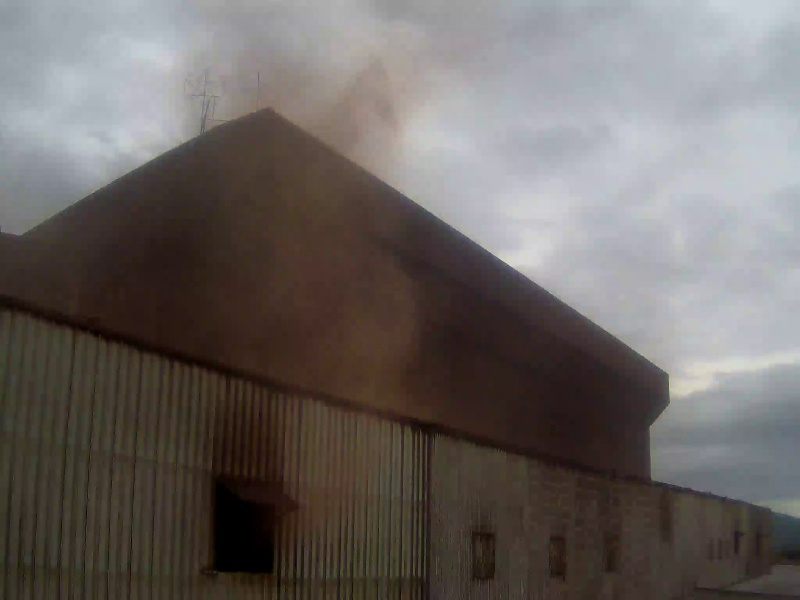bom: (442, 121, 767, 497)
pessimo: (1, 1, 430, 429)
